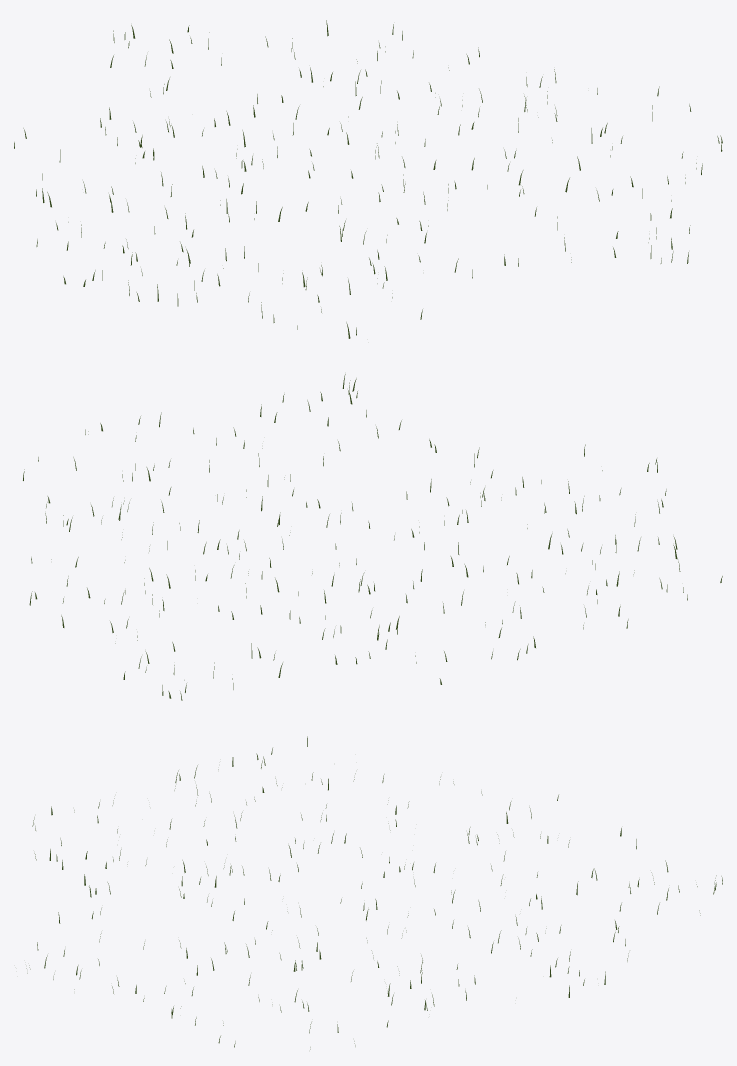
The picture shows the model from 3 angles, top to bottom: view 1: azimuth 30°, elevation 25°; view 2: azimuth 150°, elevation 25°; view 3: azimuth 270°, elevation 25°; orthographic projection. The views are drawn at different scales.
Visible parts, largest first — view 1: GrassPatch; view 2: GrassPatch; view 3: GrassPatch.
Boxes of the visible parts, <box> form: GrassPatch: <box>14,20,722,338</box>; GrassPatch: <box>23,374,722,700</box>; GrassPatch: <box>26,736,722,1049</box>.
Size of the model in its own units: 19.01 by 0.4894 by 18.7.
